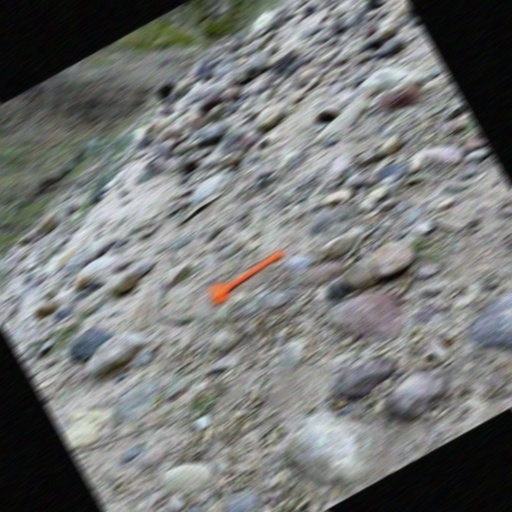mallet: (207, 248, 290, 306)
